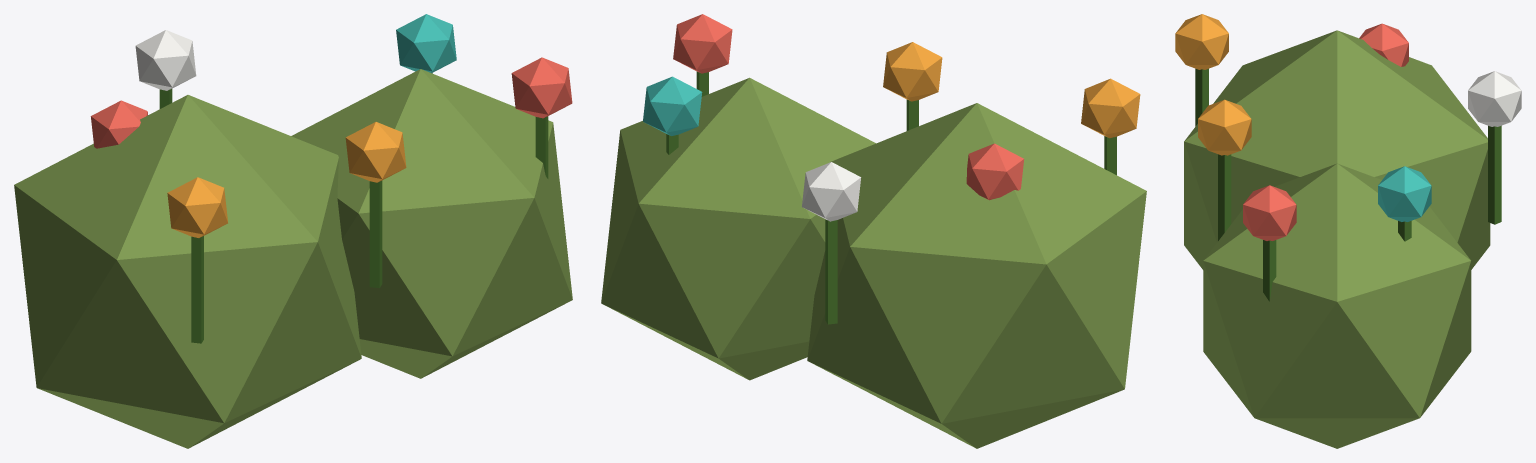
The model's file is landscape.flower-cluster.glb.
3 renders of one model, left to right at view 1: azimuth 30°, elevation 25°; view 2: azimuth 150°, elevation 25°; view 3: azimuth 270°, elevation 25°, orthographic. The views are drawn at different scales.
Visible parts, largest first — view 1: landscape.flower-cluster; view 2: landscape.flower-cluster; view 3: landscape.flower-cluster.
Boxes of the visible parts, x1=… form: landscape.flower-cluster: x1=14, y1=14, x2=572, y2=448; landscape.flower-cluster: x1=601, y1=14, x2=1146, y2=448; landscape.flower-cluster: x1=1175, y1=14, x2=1521, y2=448.
Bounding box in the file's own units: 1.22 × 0.8 × 0.7691.
